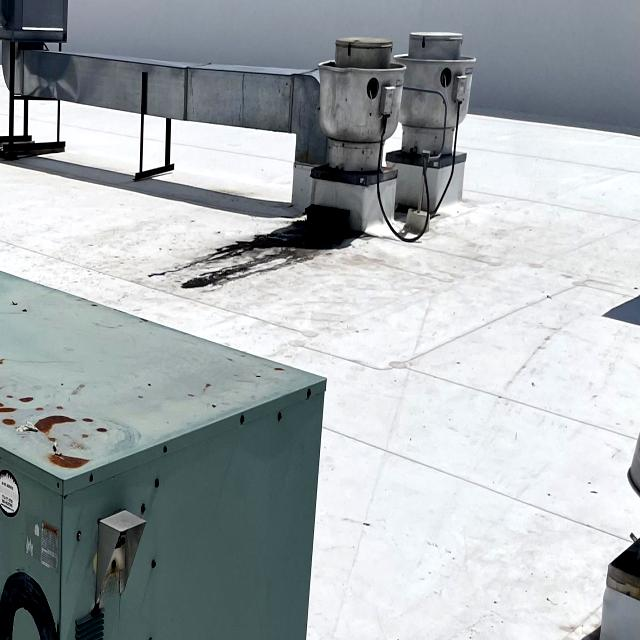RTU: (0, 235, 334, 640)
